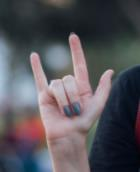back: (29, 30, 113, 145)
